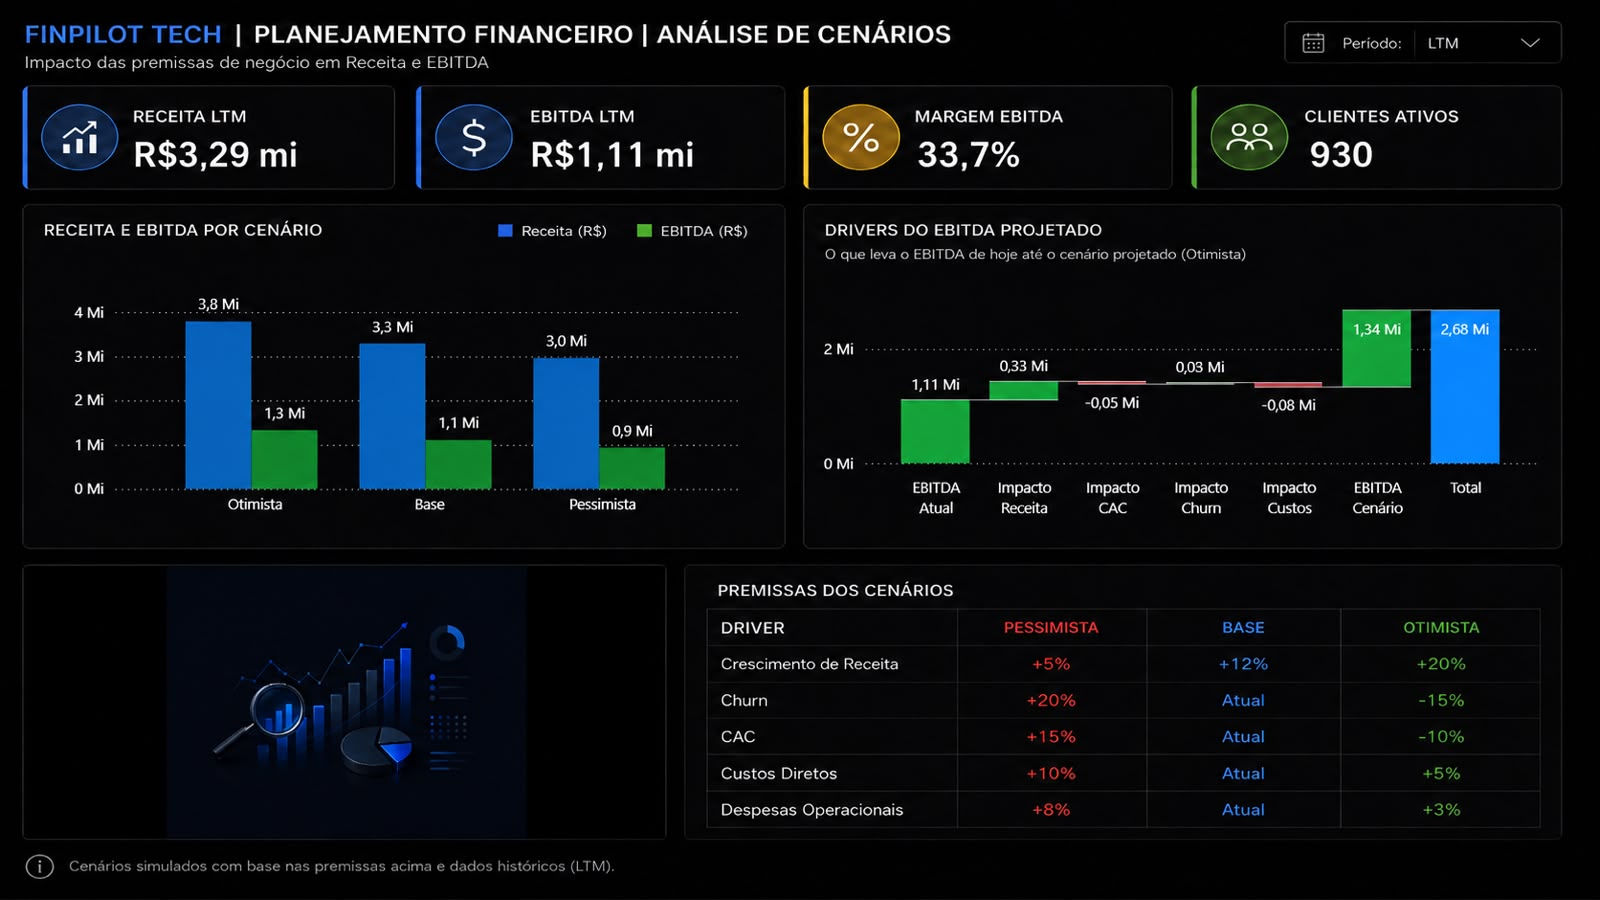

Layout of this report page (visuals, bound fields, positions):
{"tool":"powerbi","page":{"name":"Página 1","canvas":[1280,720],"ordinal":0},"visuals":[{"type":"clusteredColumnChart","fields":{"Category":["Cenarios.Cenario"],"Y":["Dados_Financeiros.Receita Cenario","Dados_Financeiros.EBITDA Cenario"]},"box":[54.2,221.8,548.1,202.9],"z":1000},{"type":"waterfallChart","fields":{"Category":["Drivers.Driver"],"Y":["Dados_Financeiros.Valor Cascata"]},"box":[658.7,221.6,584.4,203.1],"z":1001},{"type":"image","box":[22.3,456.9,513.8,217.9],"z":1002}]}

Visuals, with their boxes in screenshot pixels (x1, y1, x2, y2), scaled from the page's 1280x720 canvas onto the 1600x900 screenshot:
clusteredColumnChart - Cenarios.Cenario x Dados_Financeiros.Receita Cenario: (68, 277, 753, 531)
waterfallChart - Drivers.Driver x Dados_Financeiros.Valor Cascata: (823, 277, 1554, 531)
image: (28, 571, 670, 844)
